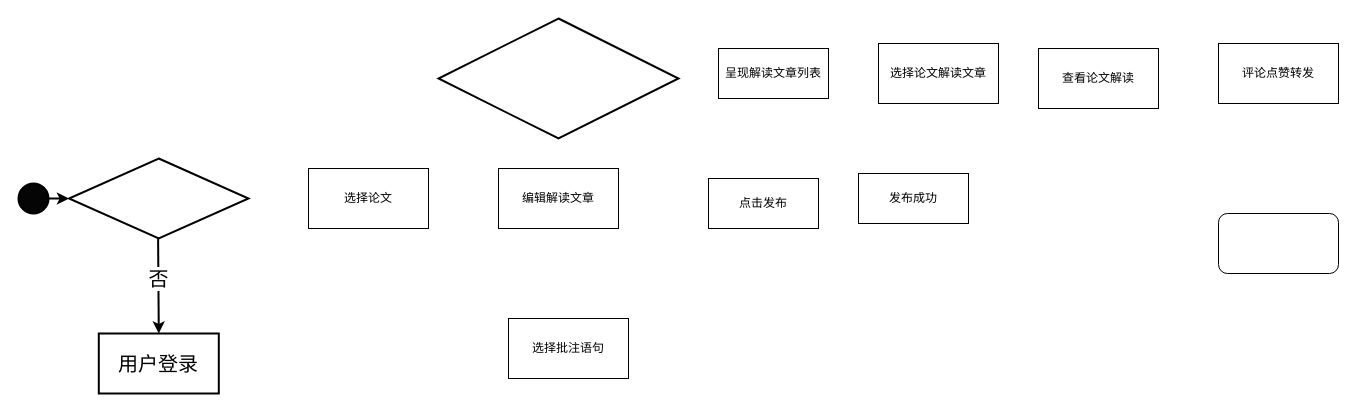
Image size: 1356x411. Some labels were removed from this diagram. The box of each missing label's shape, as (x1, y1, x2, y2) in pixels:
是否存在相关解读文章: (437, 17, 679, 139)
用户是否登录: (68, 157, 249, 239)
结束: (1218, 212, 1338, 274)
